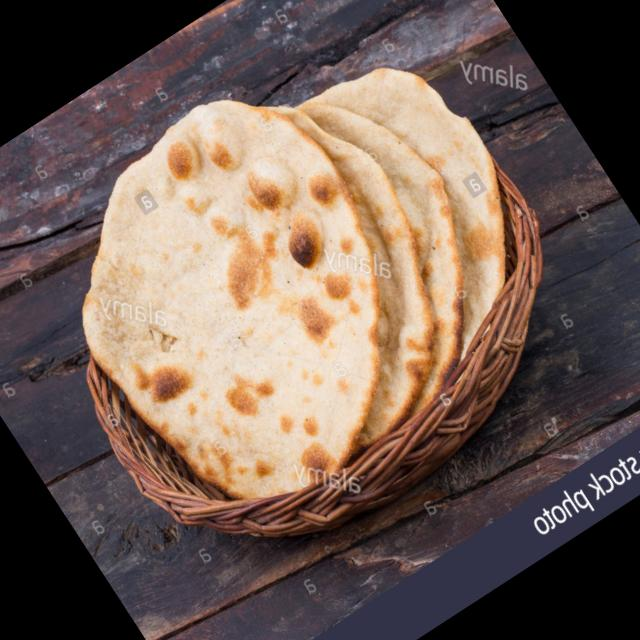roti: (85, 108, 378, 487)
